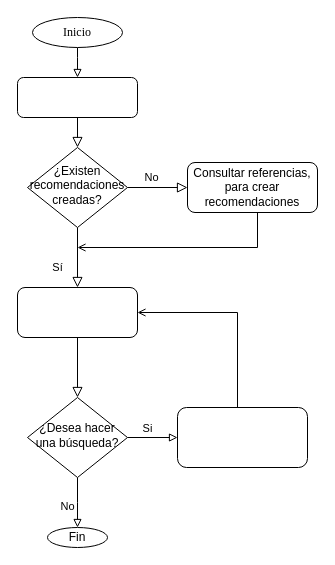
Image size: 335x565. Some labels were removed from this diagram. Each missing label, with the centre of its shape:
Filtrar por actor, género, popularidad o director: pixel 242 437
Ingreso de datos de usuario: pixel 77 97
Mostrar opciones de películas y sus características: pixel 77 312
